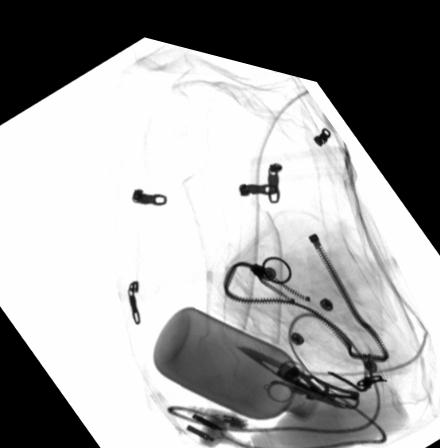Knife: (235, 331, 359, 391)
Scissors: (264, 343, 338, 389)
